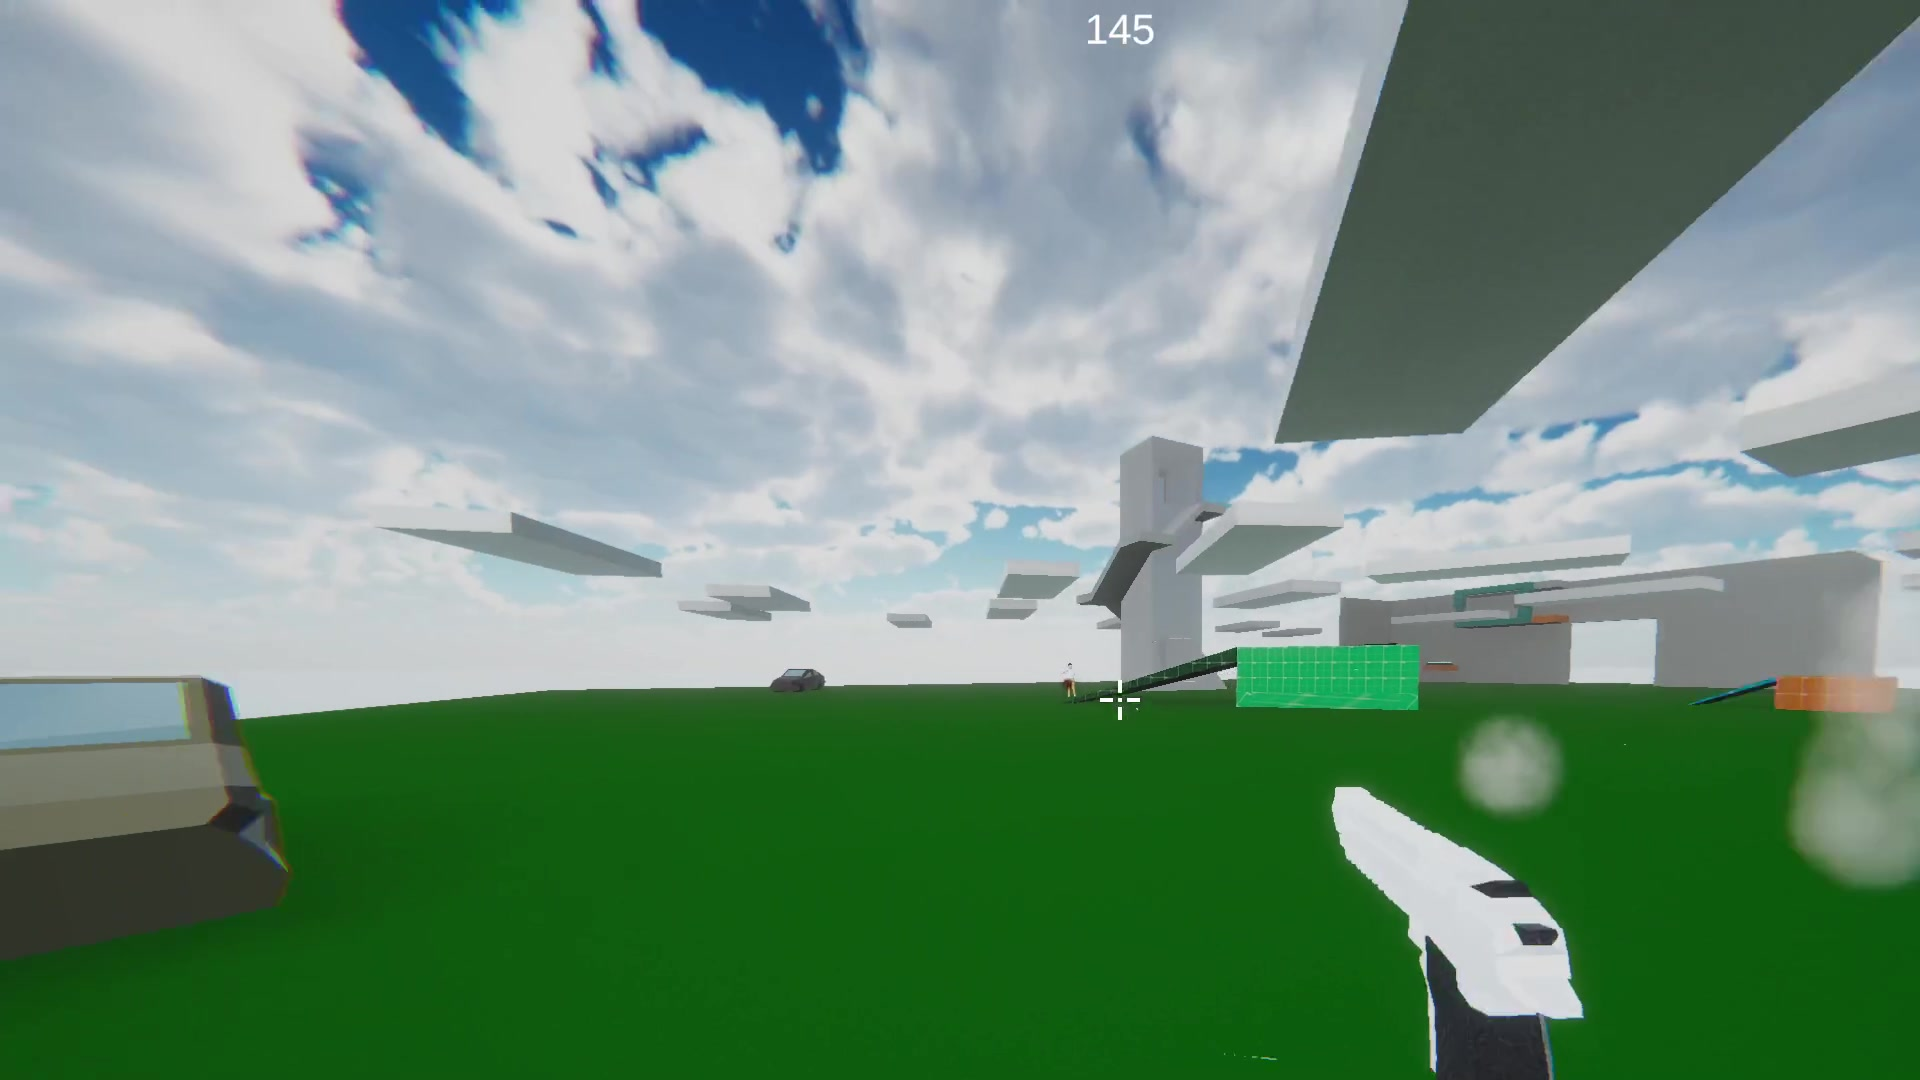human: (1061, 655, 1079, 700)
